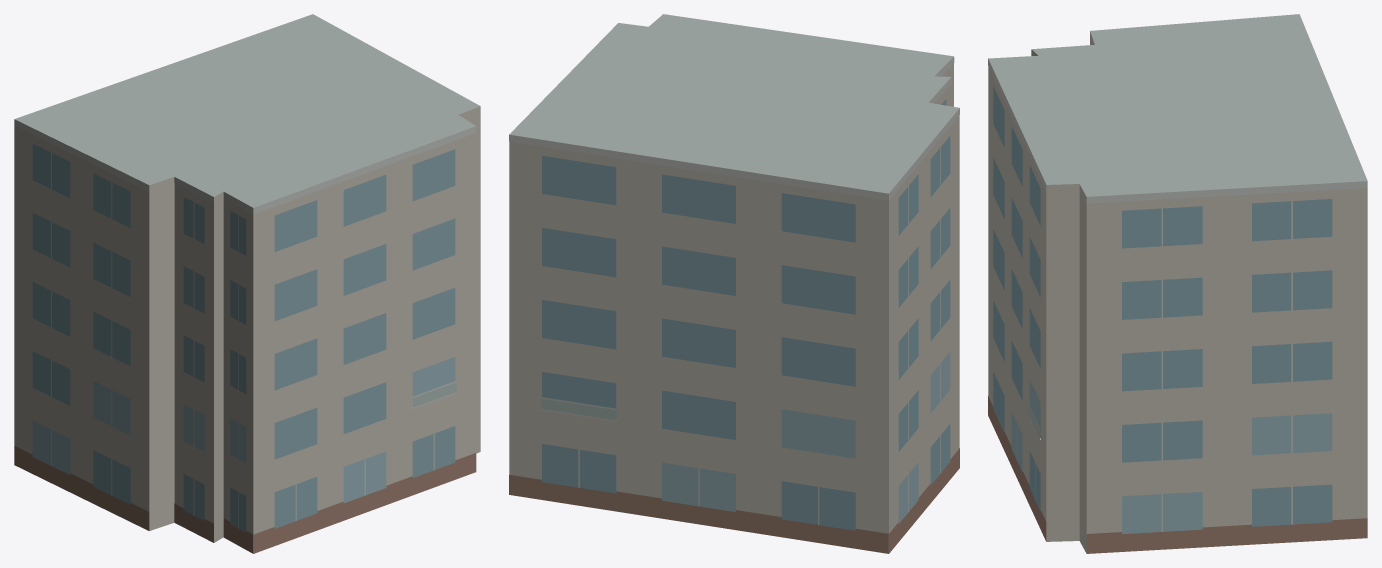
The model's file is survey-upis-32526880.glb.
3 views of the same model, side by side, from view 1: azimuth 30°, elevation 25°; view 2: azimuth 150°, elevation 25°; view 3: azimuth 270°, elevation 25° (orthographic). The views are drawn at different scales.
Visible parts, largest first — view 1: survey-upis-32526880.tmp; view 2: survey-upis-32526880.tmp; view 3: survey-upis-32526880.tmp.
Boxes of the visible parts, x1=… form: survey-upis-32526880.tmp: x1=14, y1=14, x2=480, y2=553; survey-upis-32526880.tmp: x1=509, y1=14, x2=959, y2=553; survey-upis-32526880.tmp: x1=988, y1=14, x2=1367, y2=553.
Bounding box in the file's own units: 13.96 × 12.7 × 12.25.
